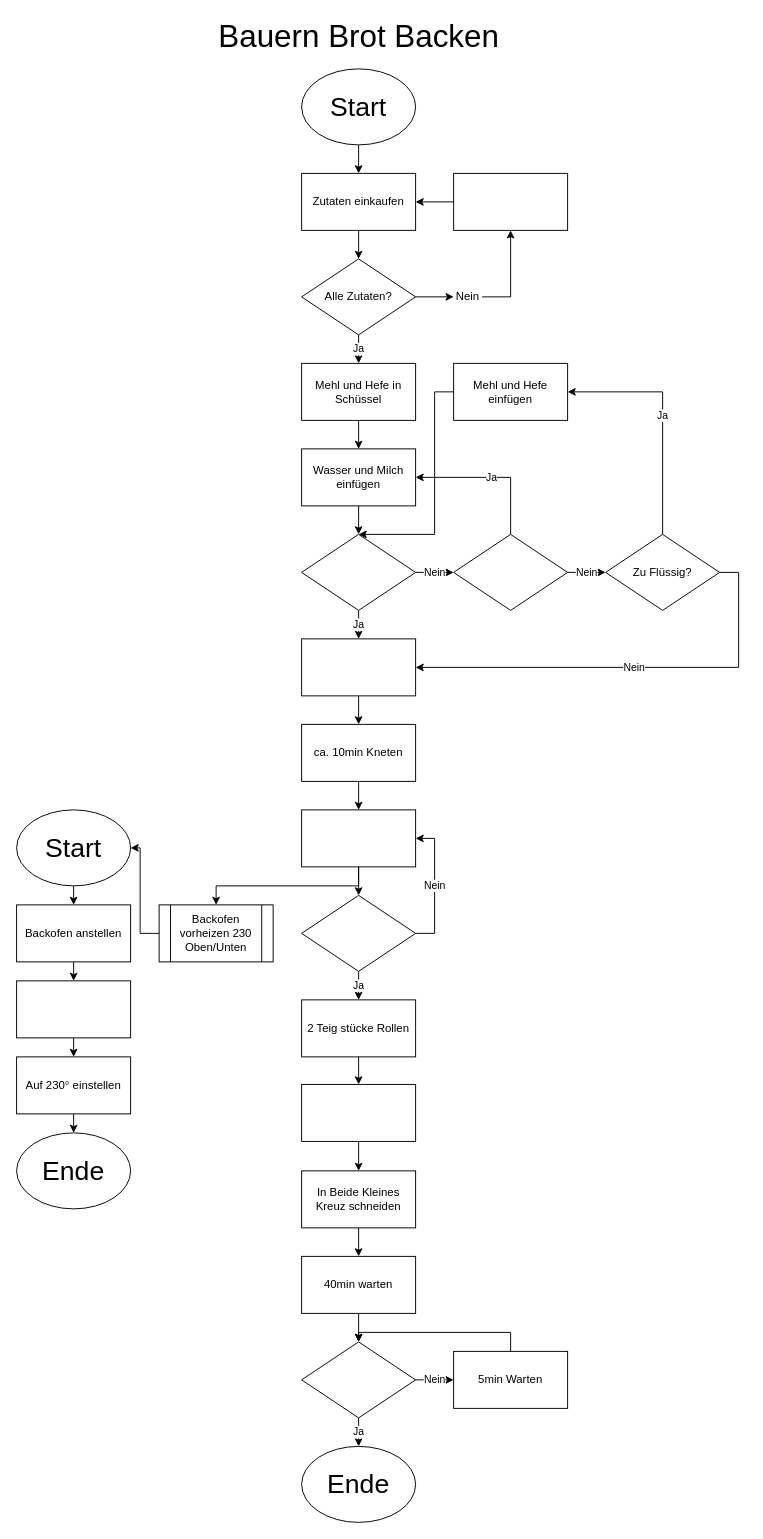
The diagram is 763 pixels wide and 1539 high, and some of its shapes have lost their labels. Each missing label, with the box of its shape:
Fühlt sich wie Teig an?: (301, 533, 416, 610)
Harte Kruste aber innenweich?: (301, 1341, 416, 1418)
in Backofen: (301, 1083, 416, 1141)
Salz beigeben: (301, 638, 416, 696)
Teig Doppelt so Gross?: (301, 894, 416, 971)
Teig eindecken und ruhen lassen: (301, 809, 416, 867)
Unter/Oben einstellen: (16, 980, 131, 1038)
Zu Hart?: (453, 533, 568, 610)
Zurück in den Laden: (453, 172, 568, 230)
